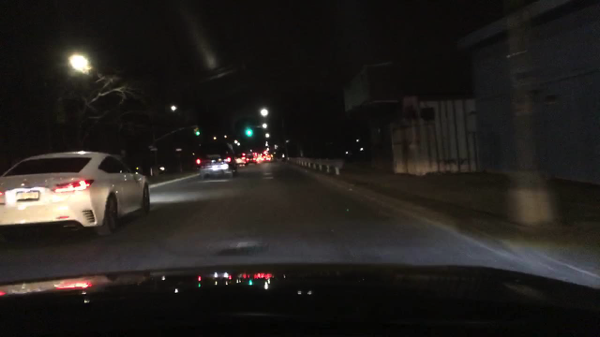car: (1, 151, 150, 236), (198, 142, 236, 177), (147, 163, 168, 176), (235, 154, 249, 166), (246, 153, 259, 163), (261, 154, 274, 162)
traffic light: (245, 128, 251, 136), (194, 127, 199, 135)
traffic sign: (149, 148, 158, 151), (148, 146, 158, 148)
